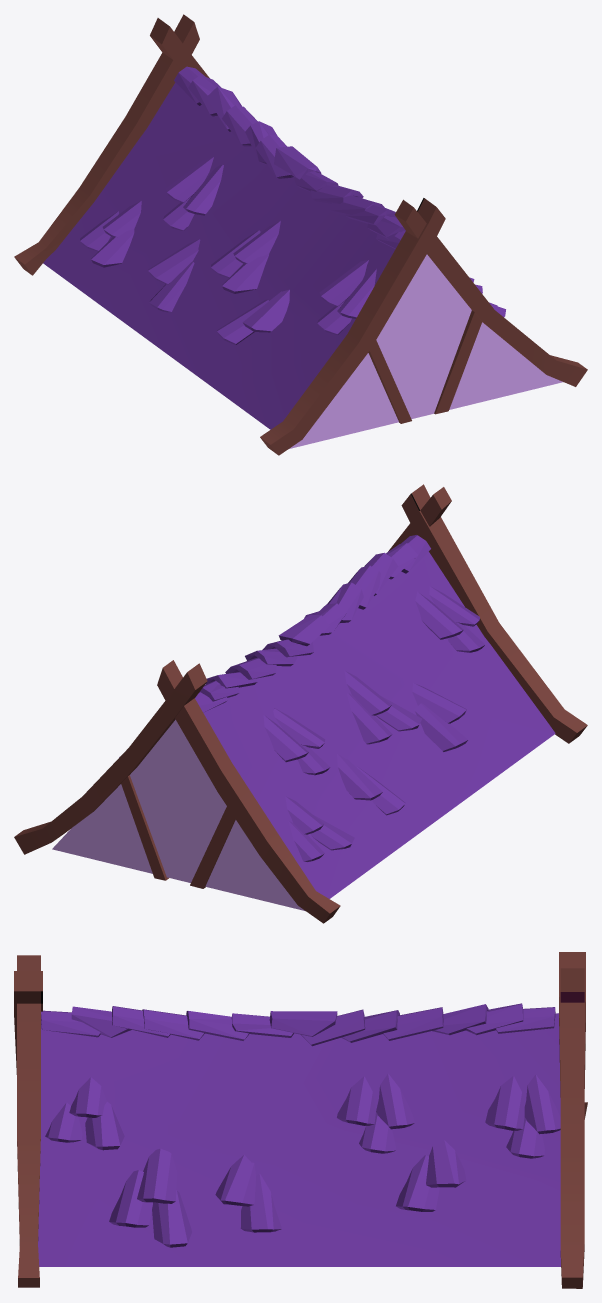
Rendered from BuildingRoof_04.fbx.
3 renders of one model, top to bottom at view 1: azimuth 30°, elevation 25°; view 2: azimuth 150°, elevation 25°; view 3: azimuth 270°, elevation 25°, orthographic. The views are drawn at different scales.
Visible parts, largest first — view 1: BuildingRoof_04; view 2: BuildingRoof_04; view 3: BuildingRoof_04.
Boxes of the visible parts, left/top/right/bottom form: BuildingRoof_04: left=14, top=14, right=587, bottom=455; BuildingRoof_04: left=14, top=484, right=587, bottom=923; BuildingRoof_04: left=14, top=952, right=587, bottom=1288.
Size of the model in its own units: 734 by 492 by 1033.
